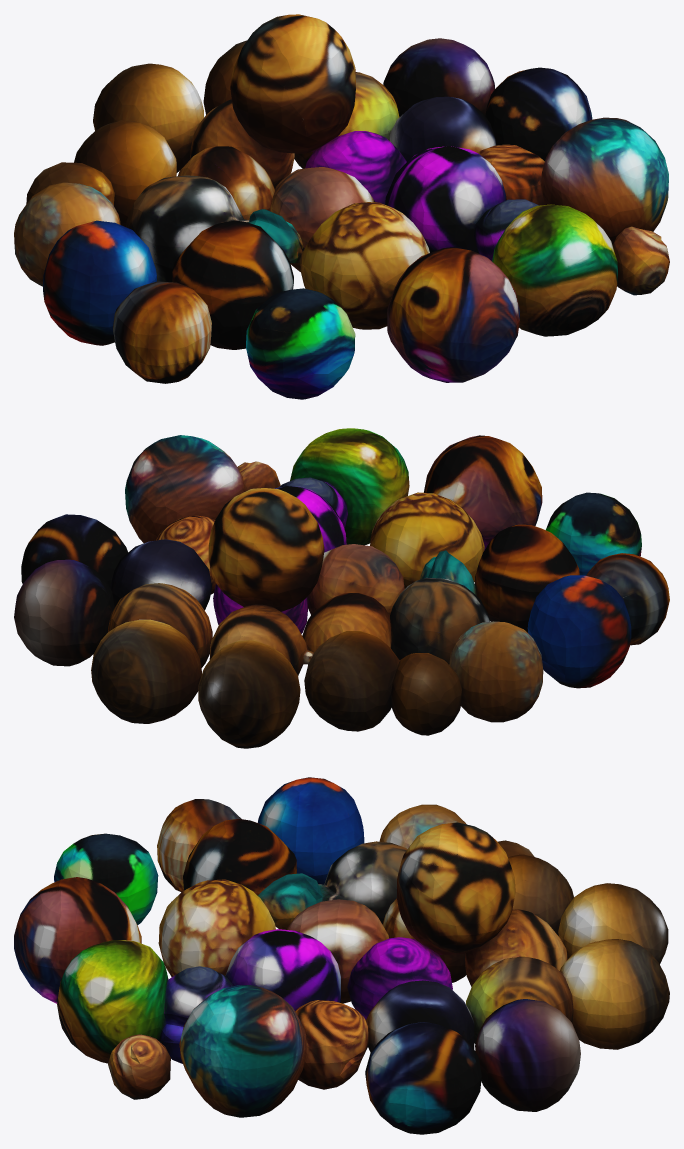
File: wooden-handmade-marbles-run-futuristic.jpeg.glb
The picture shows the model from 3 angles, top to bottom: view 1: azimuth 30°, elevation 25°; view 2: azimuth 150°, elevation 25°; view 3: azimuth 270°, elevation 25°; orthographic projection. The views are drawn at different scales.
Parts seen in each view (by area): view 1: world; view 2: world; view 3: world.
Boxes of the visible parts, <box> form: world: <box>14,14,669,399</box>; world: <box>14,428,669,748</box>; world: <box>14,777,669,1134</box>.
Size of the model in its own units: 0.9989 by 0.3305 by 0.999.
Materials: 1 (1 with a texture image).
